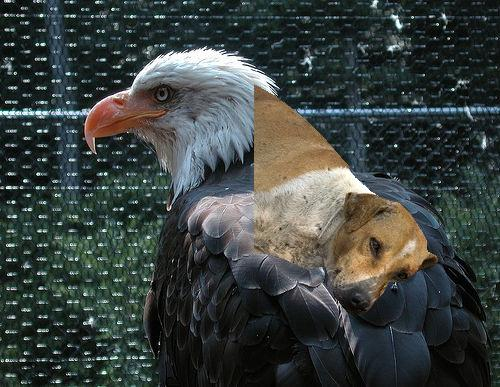tampered: (255, 85, 438, 314)
